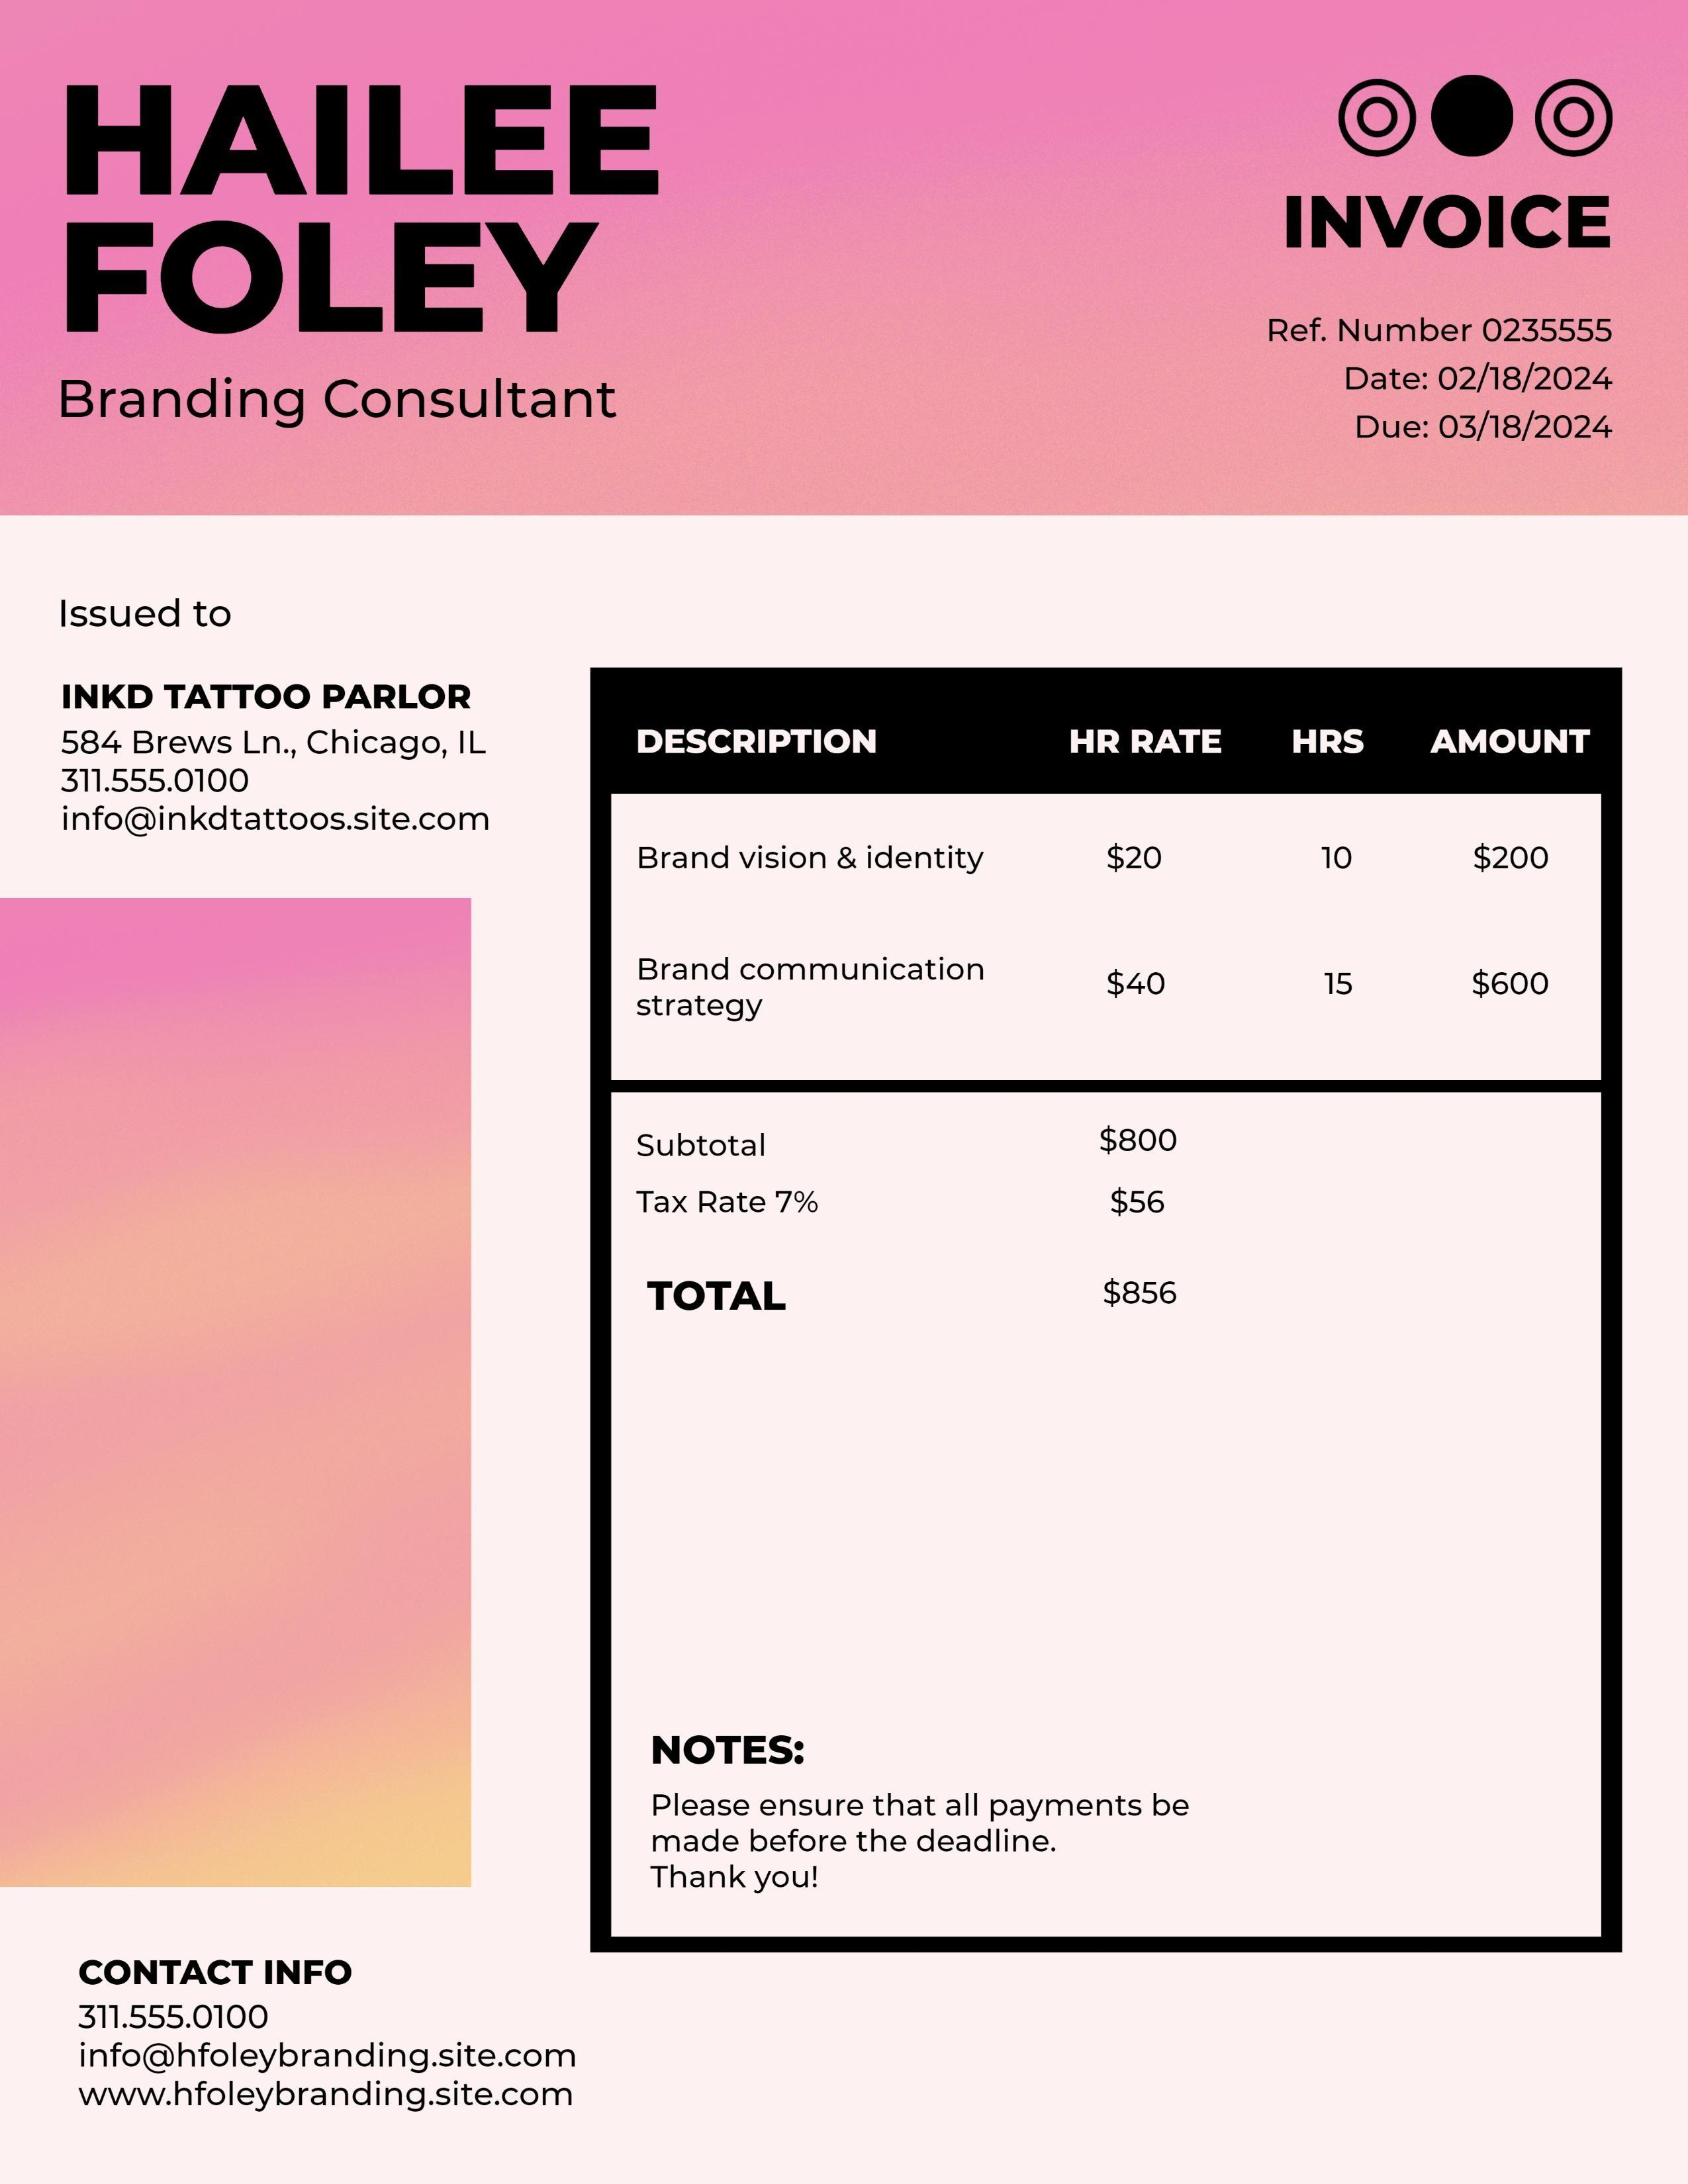ROI: (592, 667, 1617, 1085), (57, 50, 676, 441), (53, 581, 516, 844), (615, 1111, 1192, 1317), (1254, 285, 1635, 452), (612, 1778, 1229, 1865)
